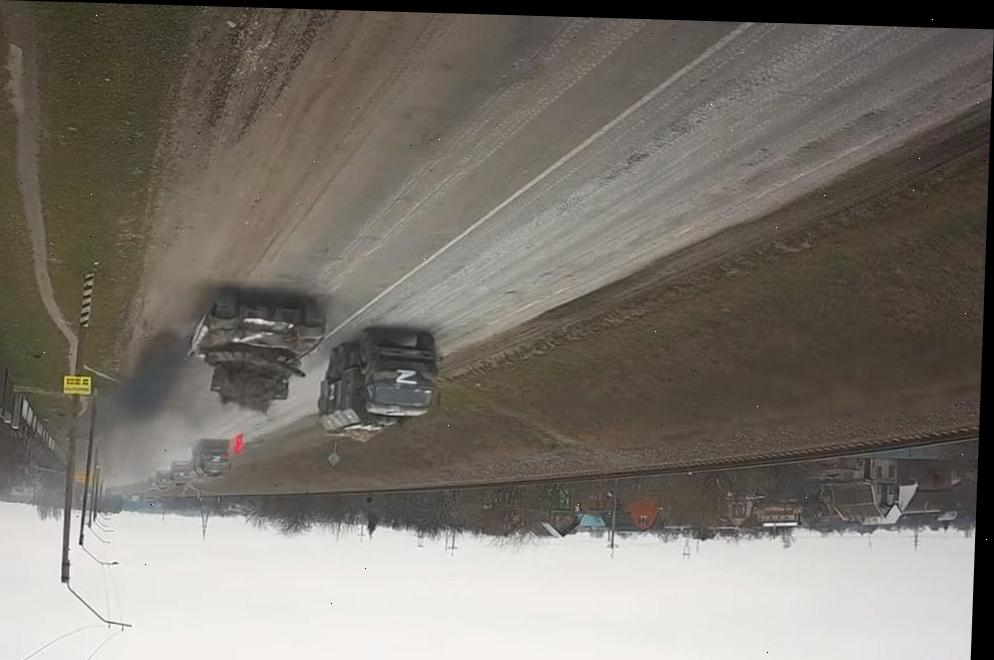tank: (181, 290, 331, 421)
truck: (315, 318, 439, 448), (191, 434, 232, 478), (169, 455, 196, 490), (151, 463, 175, 496)
